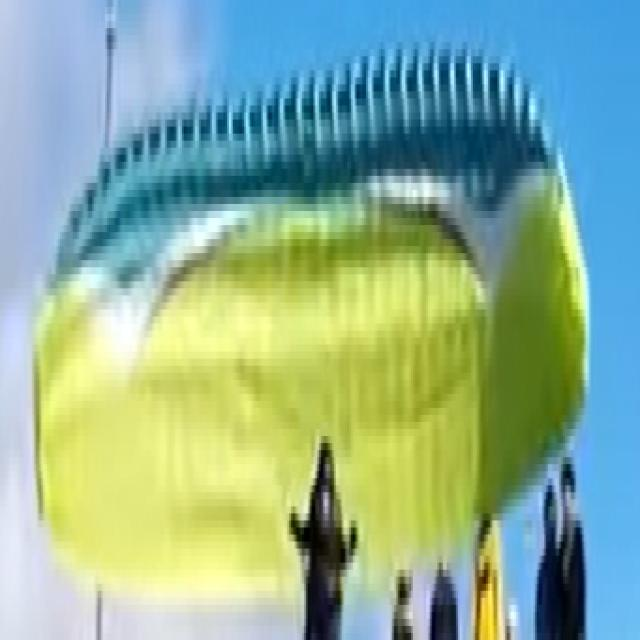paraglider: (30, 0, 589, 605)
